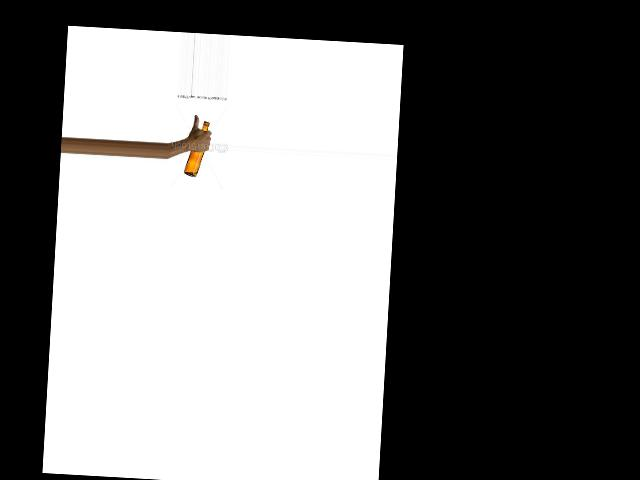beer: (183, 120, 209, 177)
